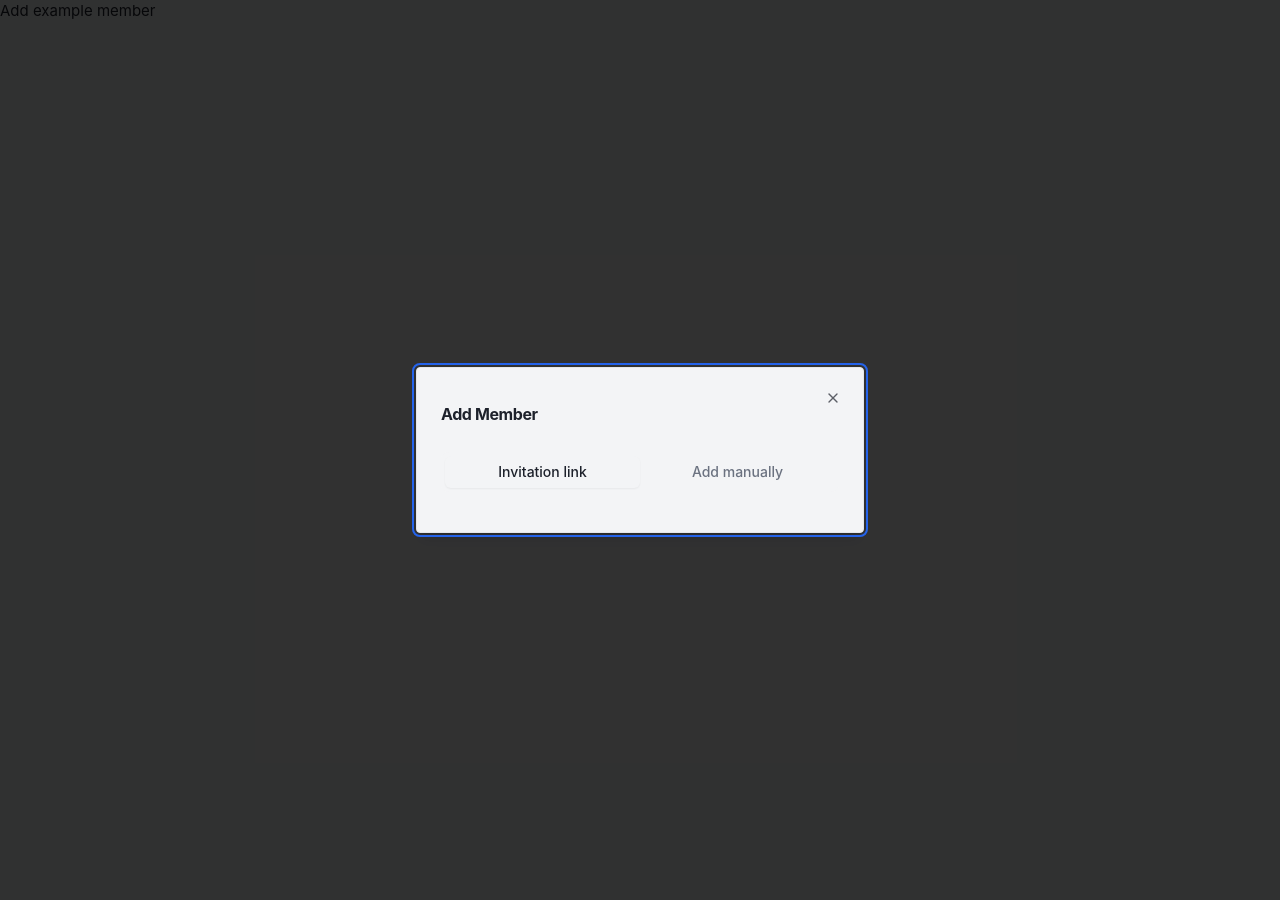
Test: mobile member creation dialog › keeps restricted role choices and loading state, and supports accessible Escape dismissal
Press the mouse on the tab "Add manually" at (738, 472), box [640,456,835,488]
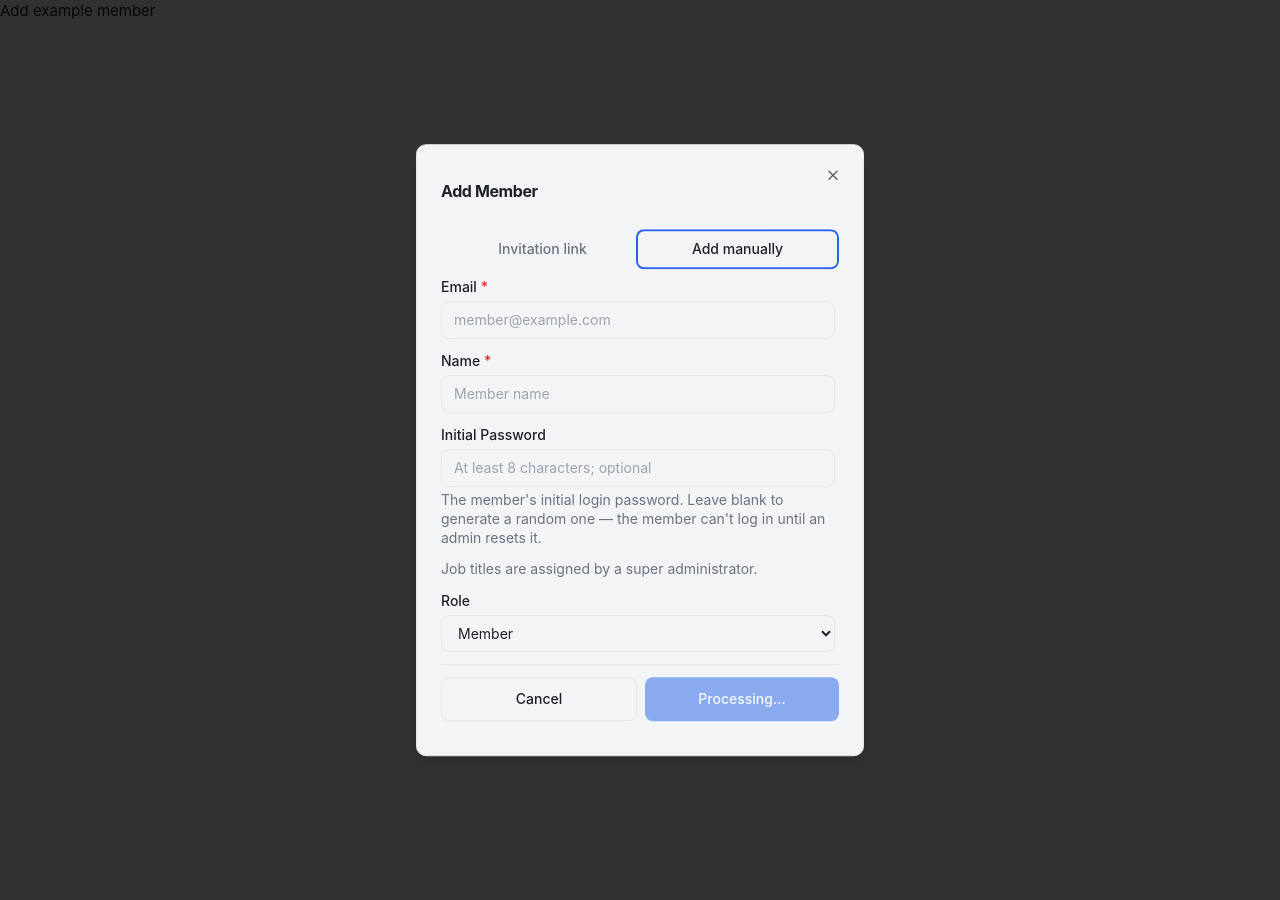
Now the button "Processing..." is disabled, box [645,677,839,721]
Press Escape in the dialog, box [416,144,864,756]
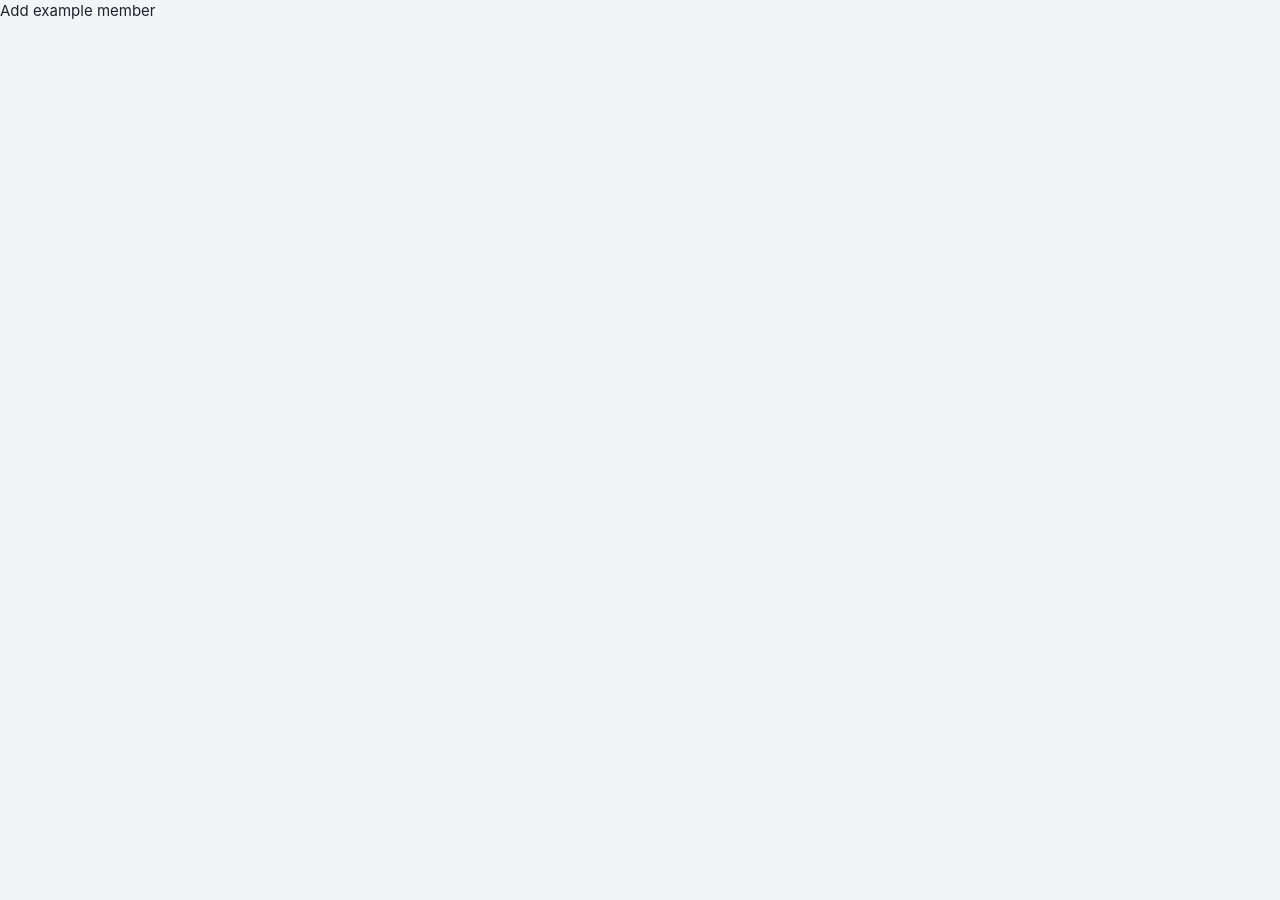
Now the dialog is gone
